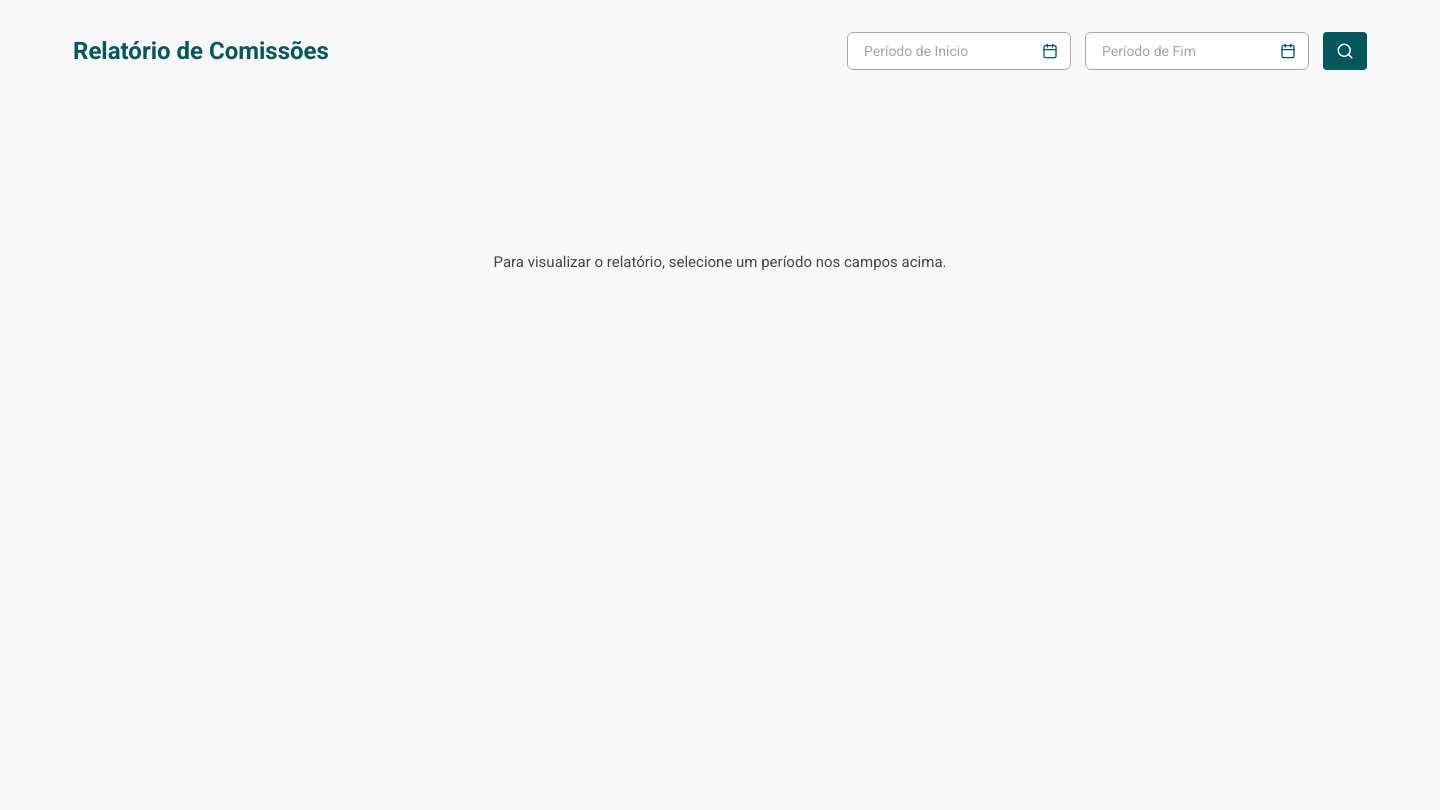
Test: Commissions Report Page Component › renderiza os campos inicialmente vazios e carrega o relatório somente após a busca
Check: the field named "data final" is empty, box [1102, 43, 1280, 59]
Check: the text "Para visualizar o relatório, selecione um período nos campos acima" is shown, box [494, 253, 946, 271]
Usuário preenche as datas e clica na lupa de busca
Step 1. Type "2026-09-01" into the field named "data inicial" → (953, 51), box [864, 43, 1042, 59]
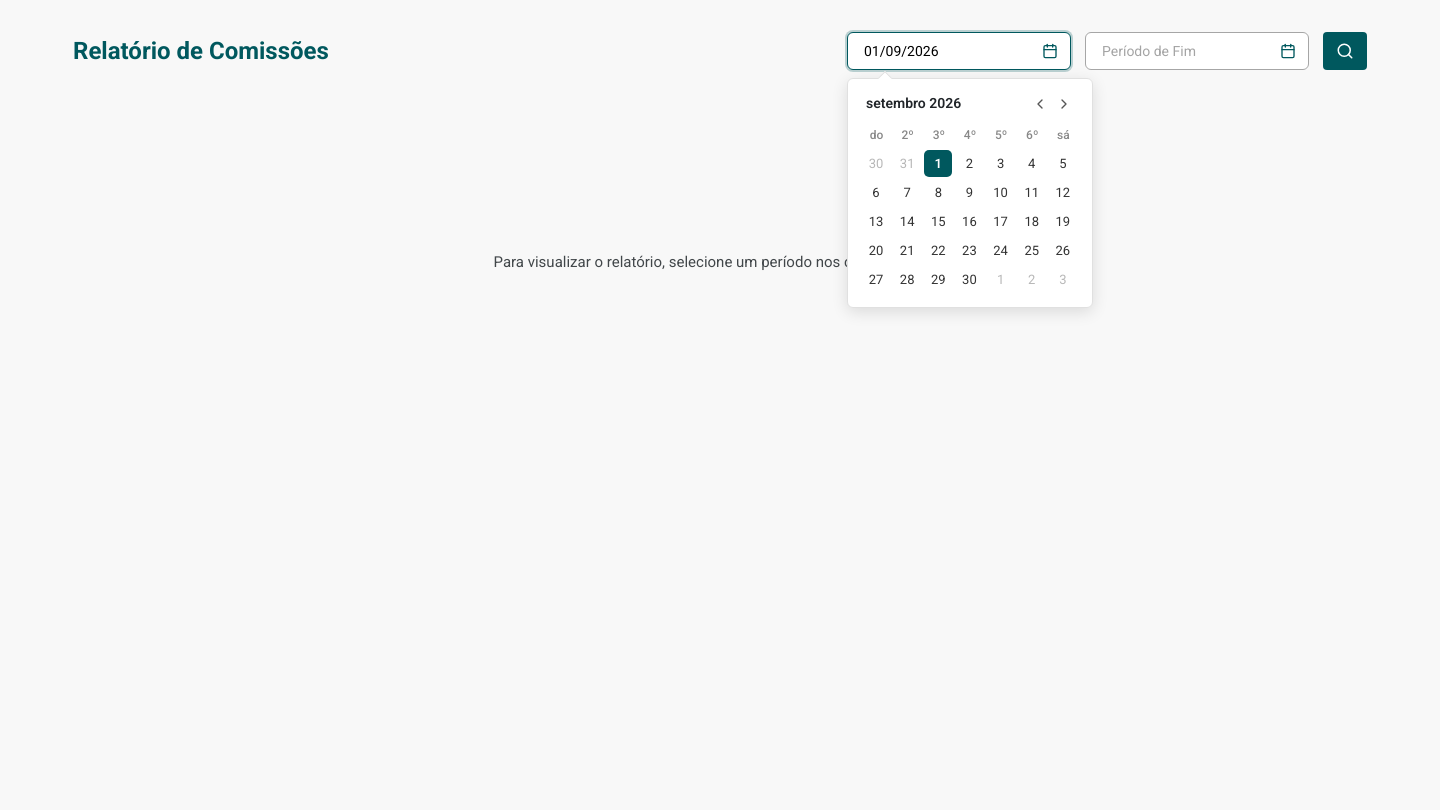
Step 2. Type "2026-09-15" into the field named "data final" → (1191, 51), box [1102, 43, 1280, 59]
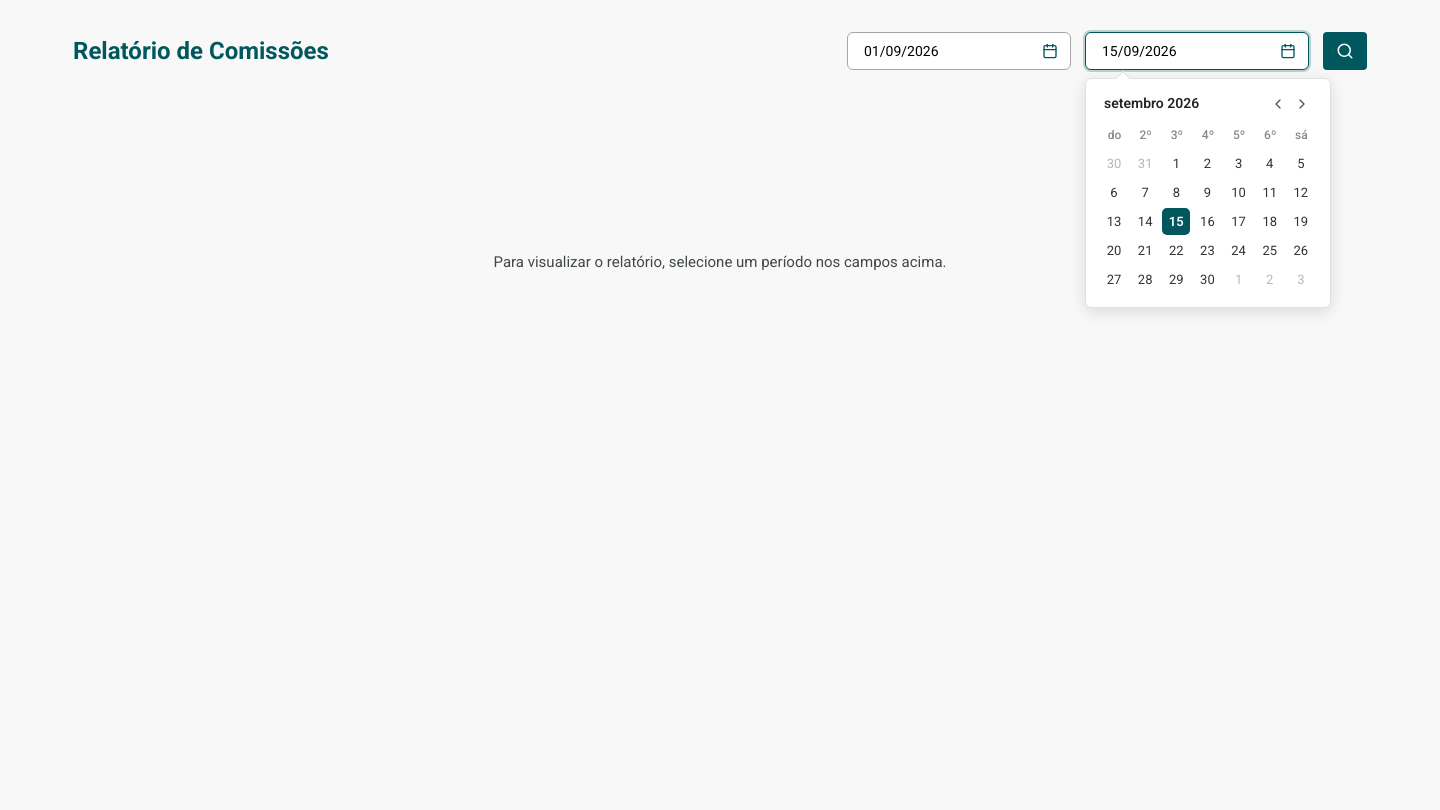
Step 3. Click the button named "consultar comissões" → click(1345, 51), box [1323, 32, 1367, 70]
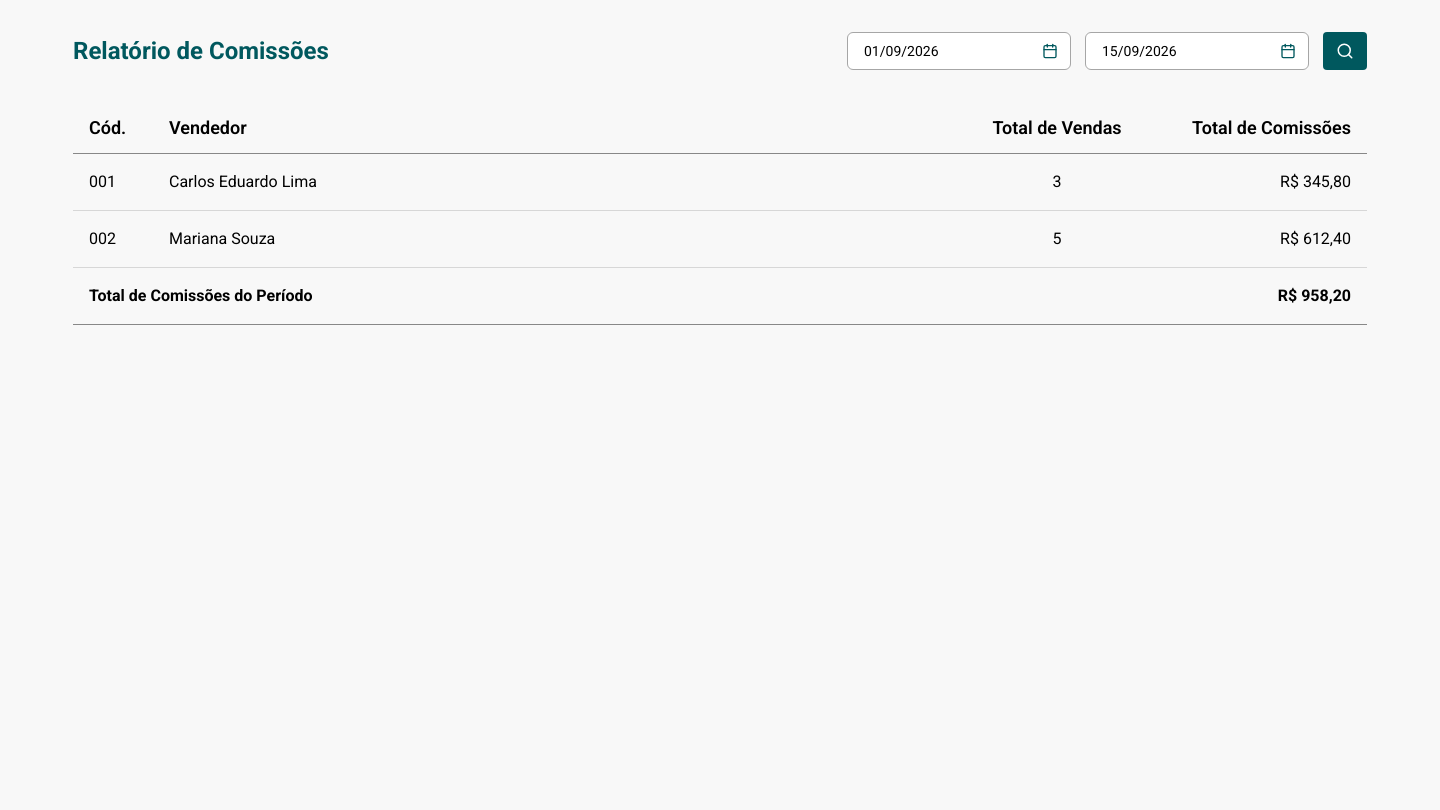
Check: the text "Carlos Eduardo Lima" is shown, box [153, 154, 967, 210]
Check: the text "Mariana Souza" is shown, box [153, 210, 967, 268]
Check: the text "Total de Comissões do Período" is shown, box [73, 268, 1147, 324]
